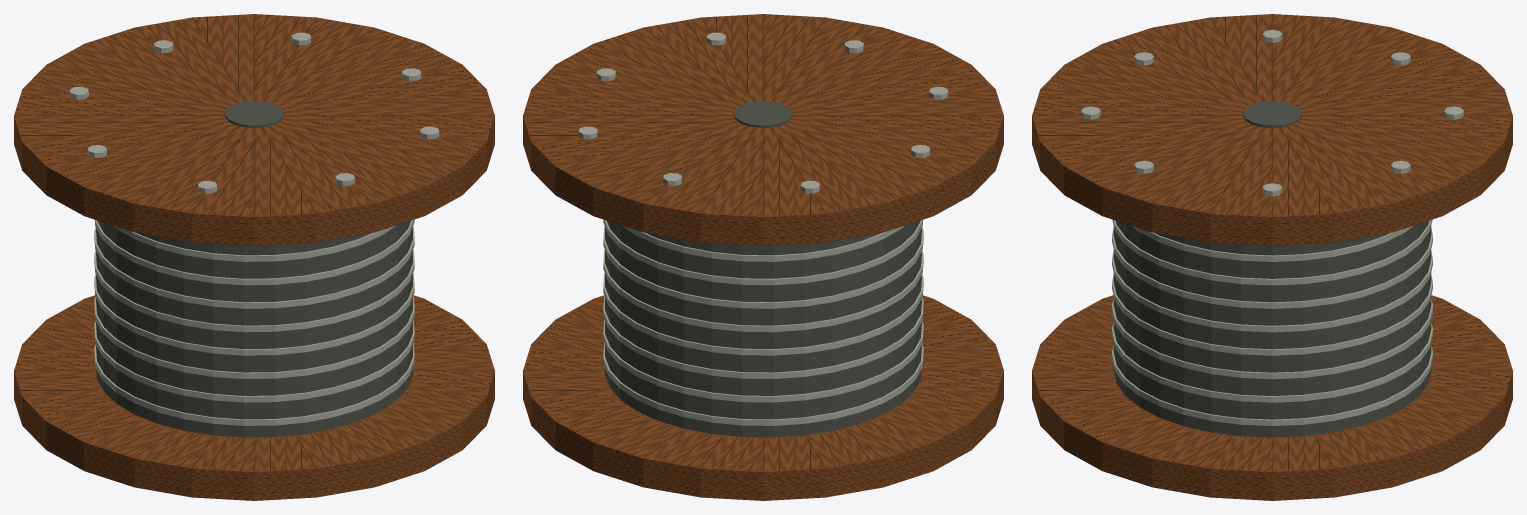
File: reclamation-yard-timber-cable-spool__227.glb
3 views of the same model, side by side, from view 1: azimuth 30°, elevation 25°; view 2: azimuth 150°, elevation 25°; view 3: azimuth 270°, elevation 25° (orthographic).
Visible parts, largest first — view 1: wood, dark, metal; view 2: wood, dark, metal; view 3: wood, dark, metal.
Part boxes in pixels (bbox=[...]): wood: bbox=[14, 14, 494, 500]; dark: bbox=[96, 100, 412, 437]; metal: bbox=[69, 32, 439, 425]; wood: bbox=[523, 14, 1003, 500]; dark: bbox=[605, 100, 921, 437]; metal: bbox=[578, 32, 948, 425]; wood: bbox=[1032, 14, 1512, 500]; dark: bbox=[1113, 100, 1431, 437]; metal: bbox=[1081, 29, 1463, 425].
Size of the model in its own units: 1.06 by 0.702 by 1.06.
Materials: 3 (1 with a texture image).
